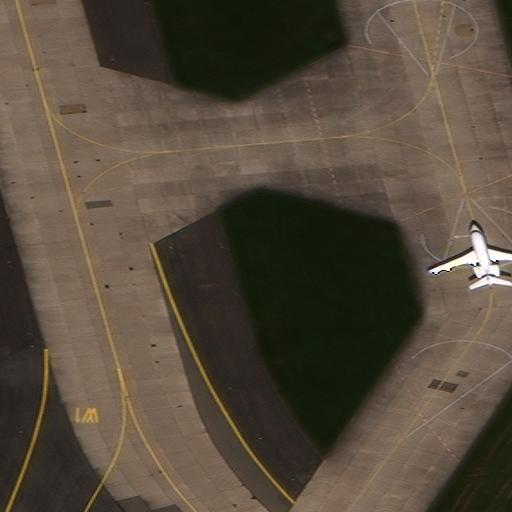Medium Civil Transport: (429, 218, 512, 287)
